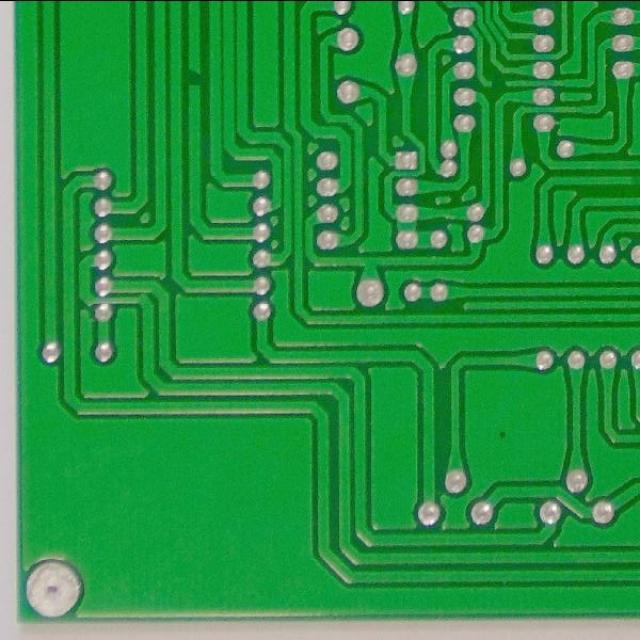Open_Circuit: (181, 60, 209, 98), (482, 72, 514, 93)
